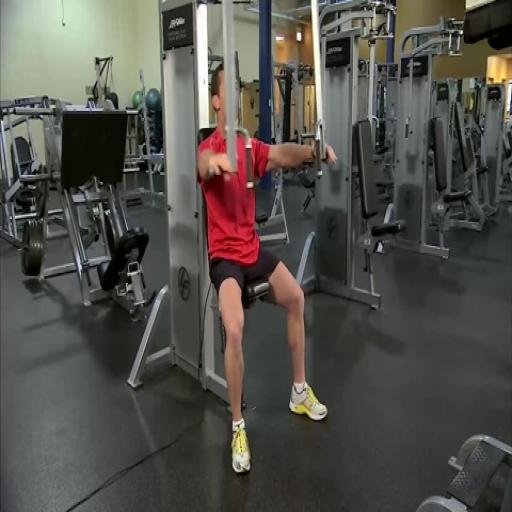exercise: (194, 61, 340, 477)
